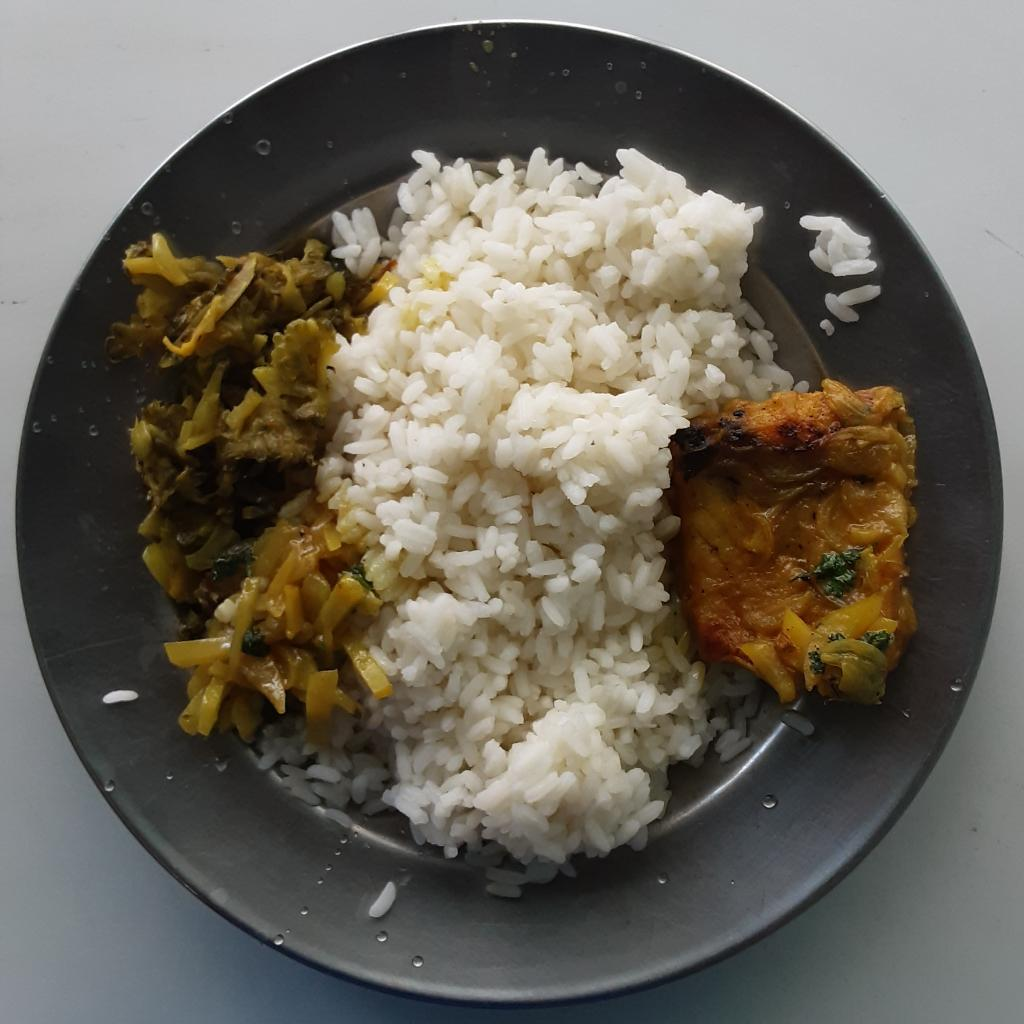fish: (671, 378, 915, 704)
korola-vaji: (100, 228, 348, 599)
potato: (161, 506, 390, 754)
rice: (255, 140, 814, 901)
